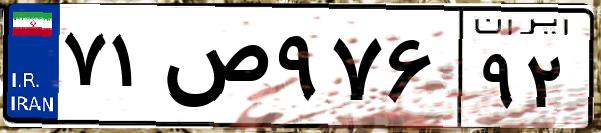1: (110, 28, 158, 98)
2: (525, 38, 570, 115)
6: (385, 28, 445, 110)
7: (330, 28, 385, 110), (57, 26, 110, 100)
9: (270, 28, 330, 110), (475, 38, 525, 113)
ص: (158, 20, 270, 120)
